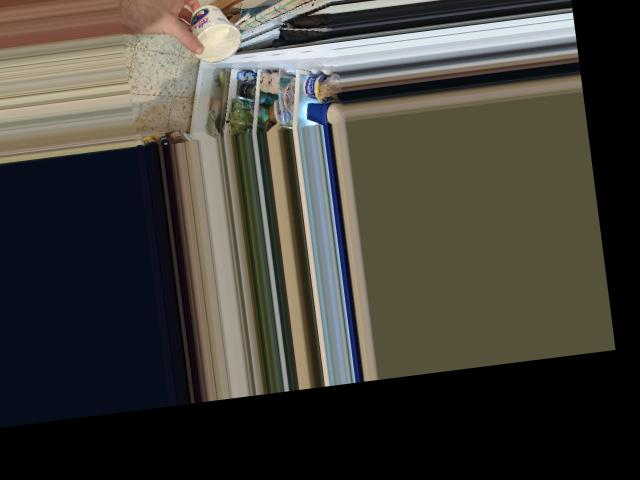cotage: (180, 4, 241, 66)
